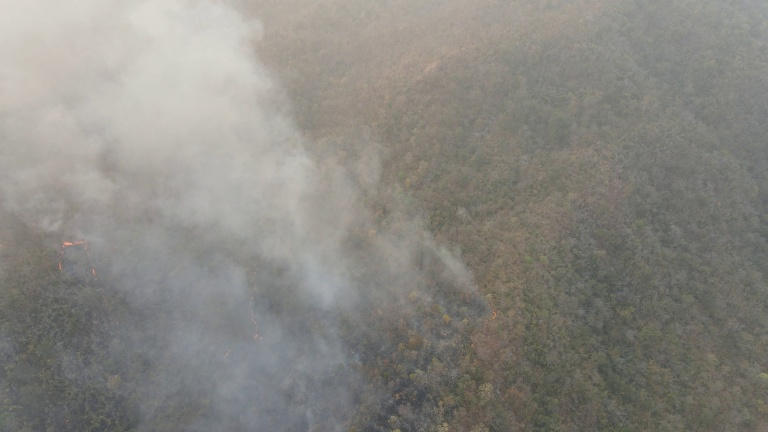fire: (217, 291, 263, 377), (56, 235, 98, 282), (477, 304, 494, 349)
smoke: (1, 1, 499, 431)
